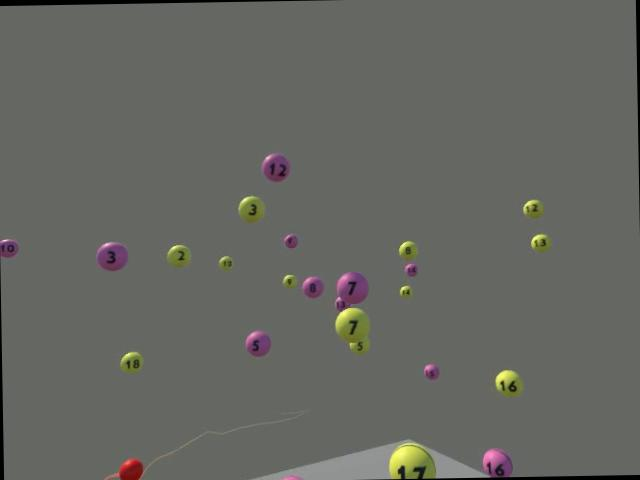ball_02_yellow: (167, 244, 191, 266)
ball_03_pink: (96, 241, 128, 271)
ball_03_yellow: (237, 195, 265, 223)
ball_05_pink: (245, 330, 271, 356)
ball_05_yellow: (349, 336, 369, 355)
ball_07_pink: (336, 270, 368, 304)
ball_07_yellow: (335, 306, 370, 342)
ball_08_pink: (302, 275, 324, 297)
ball_08_yellow: (398, 240, 417, 258)
ball_09_pink: (284, 234, 298, 248)
ball_09_yellow: (282, 274, 296, 287)
ball_10_pink: (0, 238, 19, 256)
ball_10_yellow: (218, 254, 234, 270)
ball_12_pink: (260, 152, 290, 182)
ball_12_yellow: (522, 198, 542, 218)
ball_13_pink: (335, 296, 348, 310)
ball_13_yellow: (530, 233, 551, 251)
ball_14_pink: (403, 262, 418, 276)
ball_14_yellow: (399, 284, 411, 296)
ball_15_pink: (424, 363, 439, 379)
ball_16_pink: (481, 446, 514, 476)
ball_16_yellow: (494, 369, 522, 396)
ball_18_yellow: (119, 351, 144, 374)
ball_unknown: (386, 442, 436, 478), (281, 474, 302, 480)
user_cursor: (118, 457, 144, 480)
